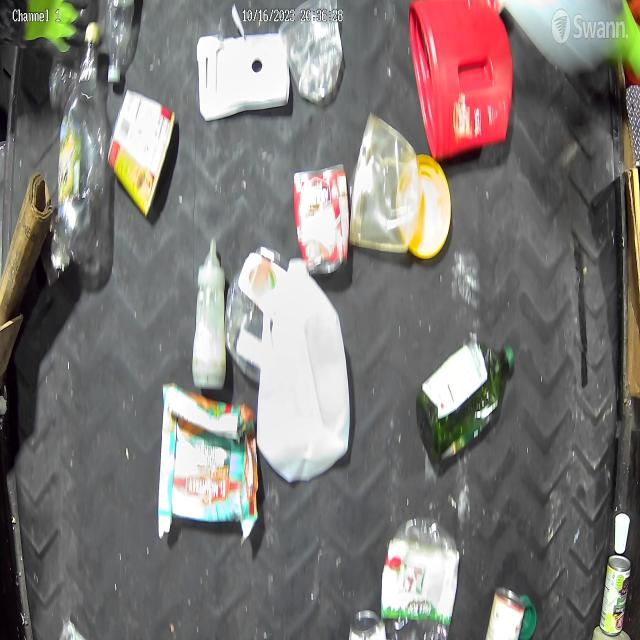can: (105, 89, 189, 223), (286, 160, 354, 276), (598, 547, 640, 640), (478, 581, 528, 640)
milk_jug: (258, 258, 357, 485)
non_white_jug: (407, 0, 515, 156)
plastic_bottle: (379, 513, 460, 640), (98, 0, 140, 90)
